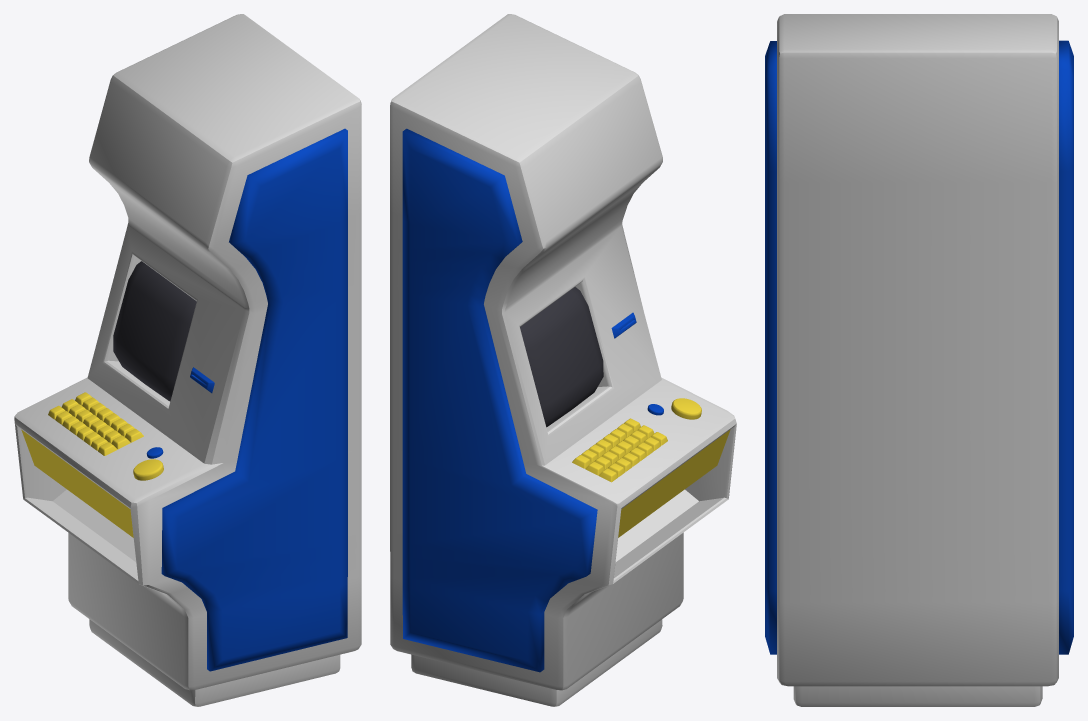
The model's file is SM_HUB_Machine_conversion.fbx.
The picture shows the model from 3 angles, left to right: view 1: azimuth 30°, elevation 25°; view 2: azimuth 150°, elevation 25°; view 3: azimuth 270°, elevation 25°; orthographic projection. The views are drawn at different scales.
Visible parts, largest first — view 1: SM_HUB_Machine_conversion; view 2: SM_HUB_Machine_conversion; view 3: SM_HUB_Machine_conversion.
Boxes of the visible parts, box(x1,y1,x2,y2) form: SM_HUB_Machine_conversion: box(14, 14, 361, 706); SM_HUB_Machine_conversion: box(390, 14, 736, 706); SM_HUB_Machine_conversion: box(765, 14, 1073, 706).
Bounding box in the file's own units: 210 × 502 × 211.
